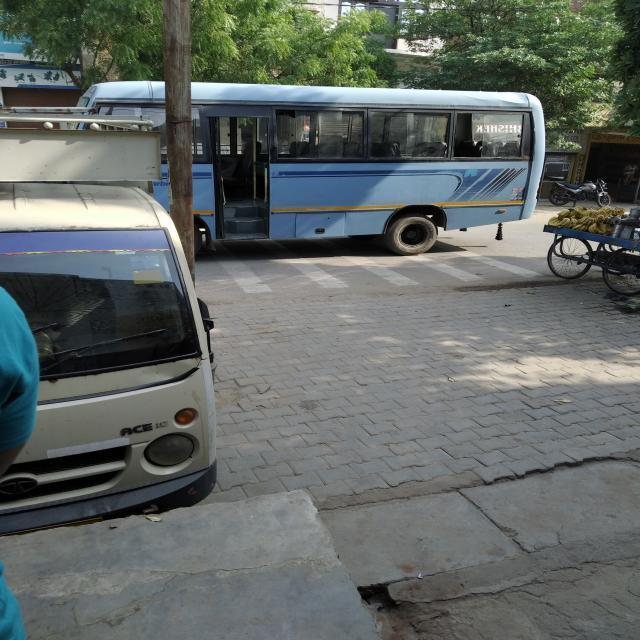truck_front: (0, 110, 233, 544)
